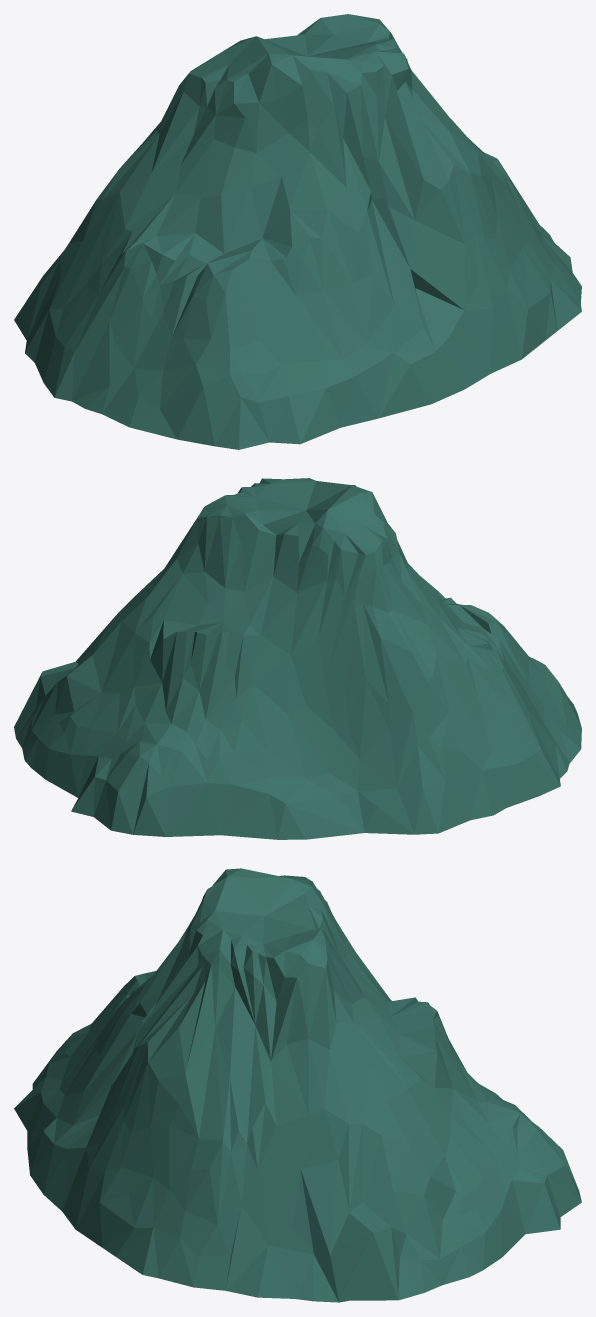
The model's file is 小山体2.fbx.
3 views of the same model, one above another, from view 1: azimuth 30°, elevation 25°; view 2: azimuth 150°, elevation 25°; view 3: azimuth 270°, elevation 25° (orthographic). The views are drawn at different scales.
Parts seen in each view (by area): view 1: 山体4-流水侵蚀; view 2: 山体4-流水侵蚀; view 3: 山体4-流水侵蚀.
Part boxes in pixels (bbox=[...]): 山体4-流水侵蚀: bbox=[14, 14, 581, 449]; 山体4-流水侵蚀: bbox=[14, 478, 581, 839]; 山体4-流水侵蚀: bbox=[14, 868, 581, 1302].
Bounding box in the file's own units: 888 × 447 × 821.
